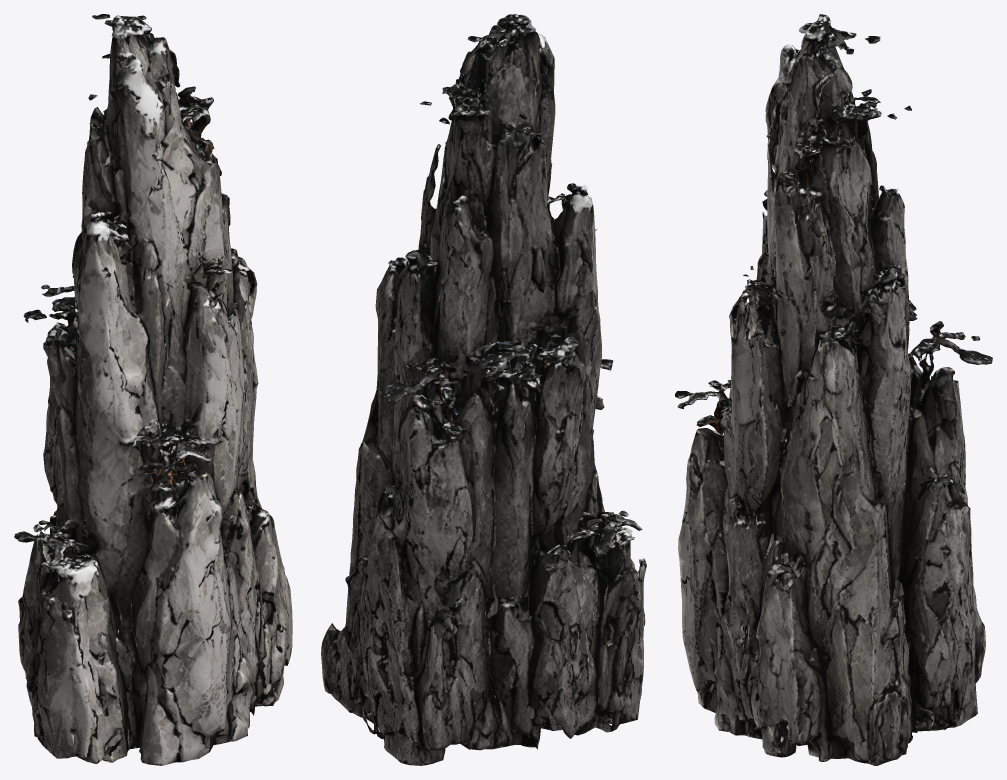
File: InkPart01_MainPeak.fbx
3 views of the same model, side by side, from view 1: azimuth 30°, elevation 25°; view 2: azimuth 150°, elevation 25°; view 3: azimuth 270°, elevation 25° (orthographic). The views are drawn at different scales.
Parts seen in each view (by area): view 1: texture_mapping; view 2: texture_mapping; view 3: texture_mapping.
Part boxes in pixels (x1,y1,x2,y2): texture_mapping: (14, 14, 292, 765); texture_mapping: (321, 14, 646, 765); texture_mapping: (675, 14, 992, 765).
Bounding box in the file's own units: 0.391 × 0.4195 × 0.9914.
Materials: 1 (1 with a texture image).
